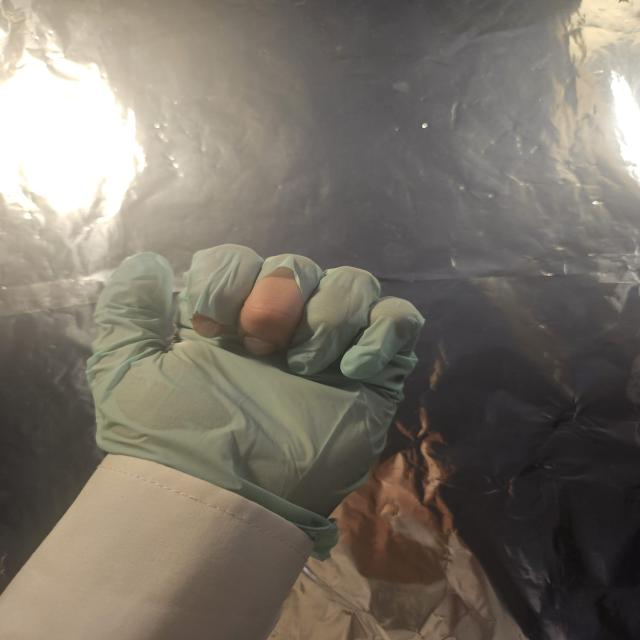gloves_damaged: (84, 244, 428, 564)
